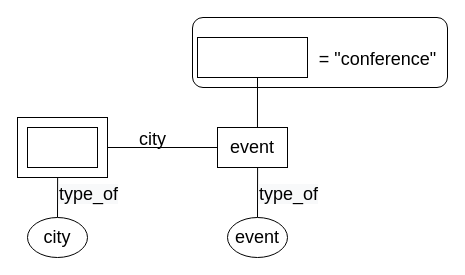
The diagram is 465 pixels wide and 275 high, and some of its shapes have lost their labels. The centre of each missing label's shape, as x and y in pixels:
Abu Dhabi: point (62, 147)
event_role: point (252, 57)
